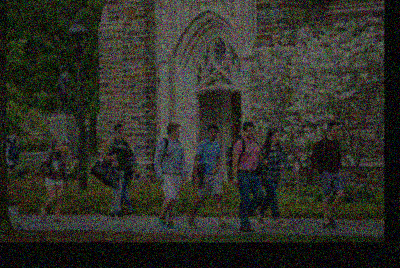without_mask: (245, 126, 255, 137), (330, 126, 340, 137), (209, 128, 218, 140), (271, 132, 280, 143), (117, 127, 124, 137), (175, 126, 181, 137), (57, 142, 63, 151)
